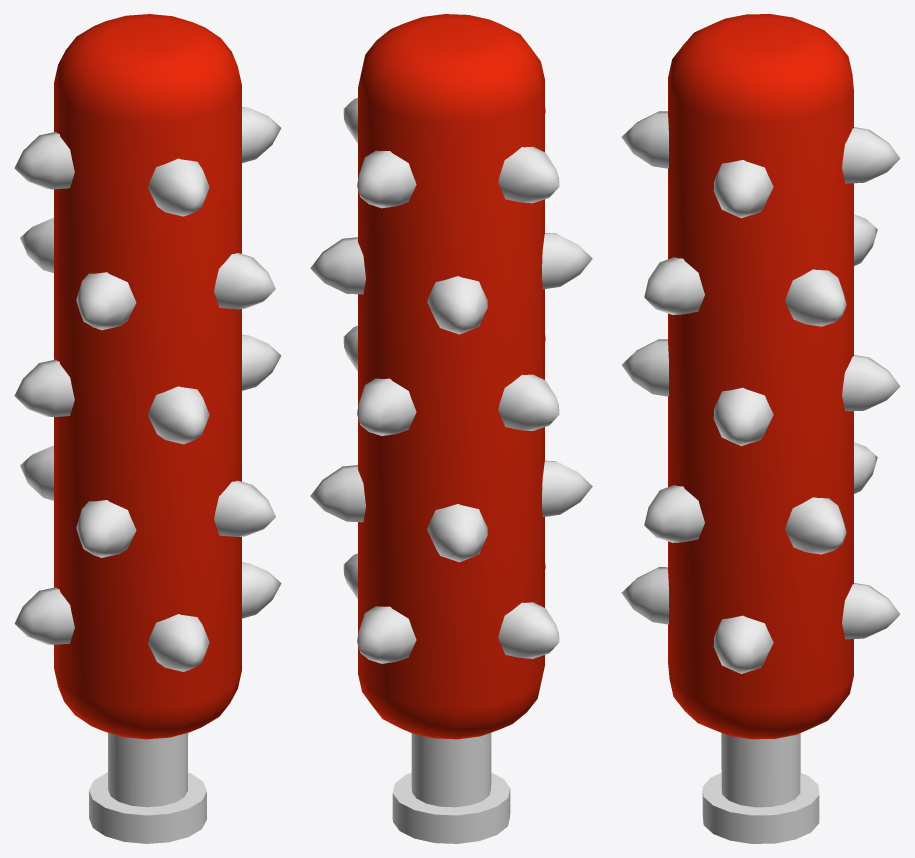
The model's file is Obs_2.fbx.
The picture shows the model from 3 angles, left to right: view 1: azimuth 30°, elevation 25°; view 2: azimuth 150°, elevation 25°; view 3: azimuth 270°, elevation 25°; orthographic projection.
Parts seen in each view (by area): view 1: Obs_2; view 2: Obs_2; view 3: Obs_2.
Part boxes in pixels (bbox=[...]): Obs_2: bbox=[14, 14, 281, 843]; Obs_2: bbox=[310, 14, 592, 843]; Obs_2: bbox=[621, 14, 900, 843].
Bounding box in the file's own units: 70.31 × 218 × 70.31.
